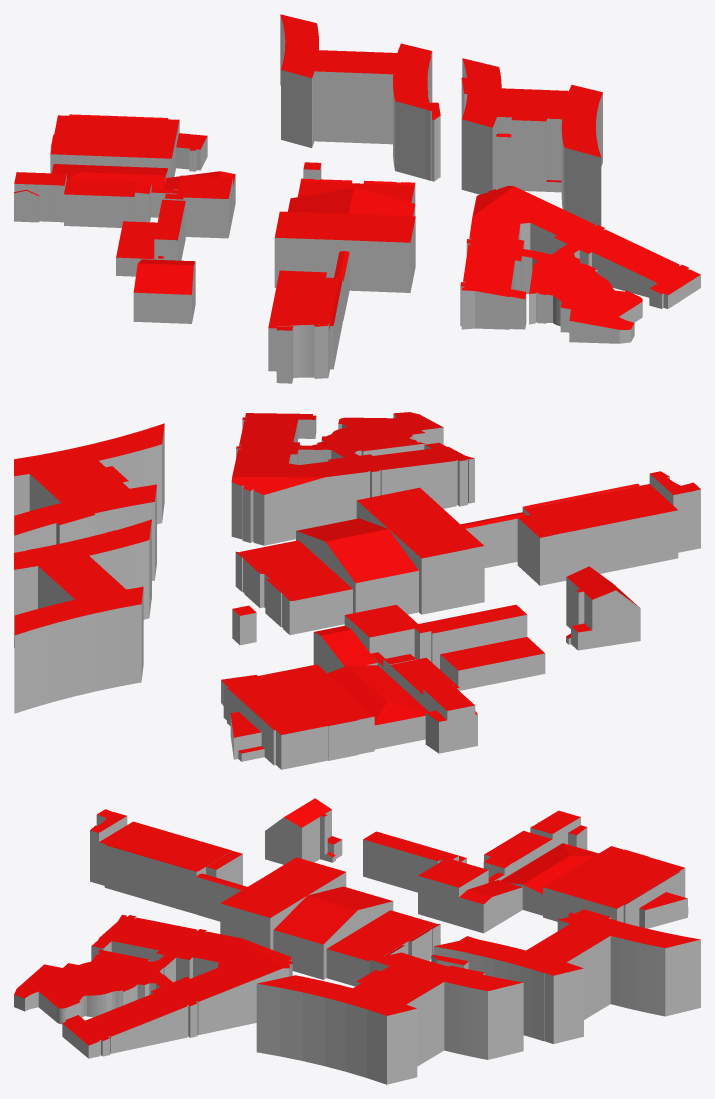
3 views of the same model, one above another, from view 1: azimuth 30°, elevation 25°; view 2: azimuth 150°, elevation 25°; view 3: azimuth 270°, elevation 25° (orthographic). The views are drawn at different scales.
Size of the model in its own units: 240 by 31.33 by 284.
